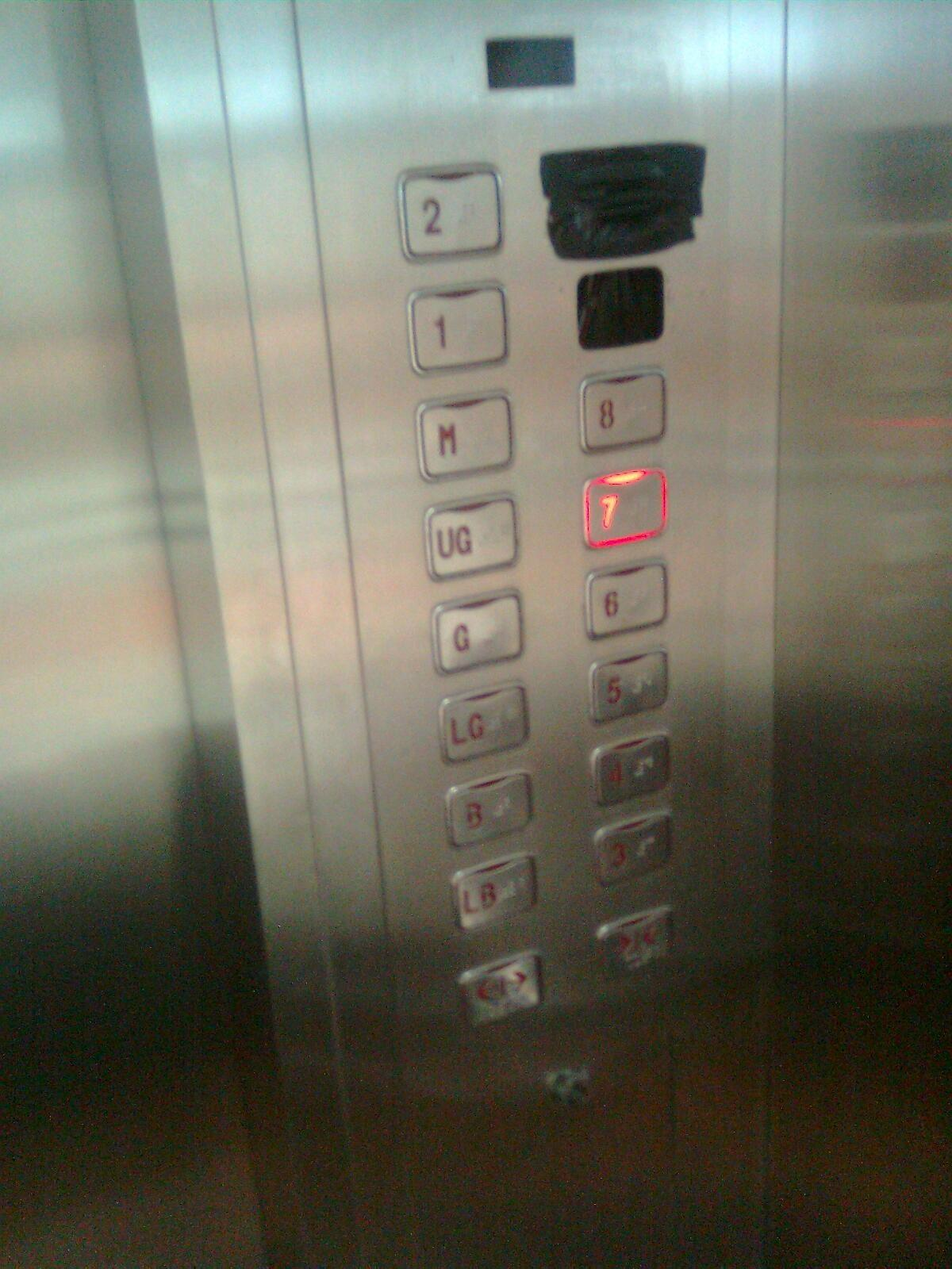1: (405, 277, 510, 376)
2: (393, 160, 505, 264)
3: (592, 811, 672, 886)
4: (589, 729, 669, 805)
5: (589, 646, 668, 725)
6: (585, 558, 666, 639)
7: (581, 464, 671, 548)
8: (577, 363, 668, 454)
B: (444, 769, 532, 845)
G: (429, 588, 523, 675)
close: (593, 905, 672, 975)
led: (480, 32, 579, 90)
open: (457, 951, 541, 1023)
unknown: (416, 387, 516, 482), (422, 492, 518, 581), (572, 263, 666, 351), (436, 681, 529, 763), (449, 852, 537, 930)
